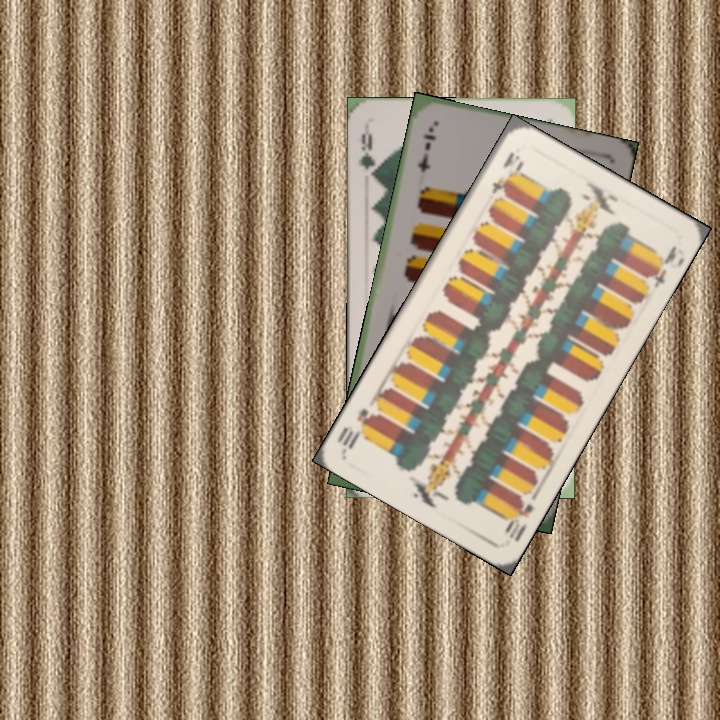E10: (500, 487, 537, 544), (488, 147, 524, 197)
E7: (413, 123, 438, 176)
G9: (354, 122, 381, 181)
